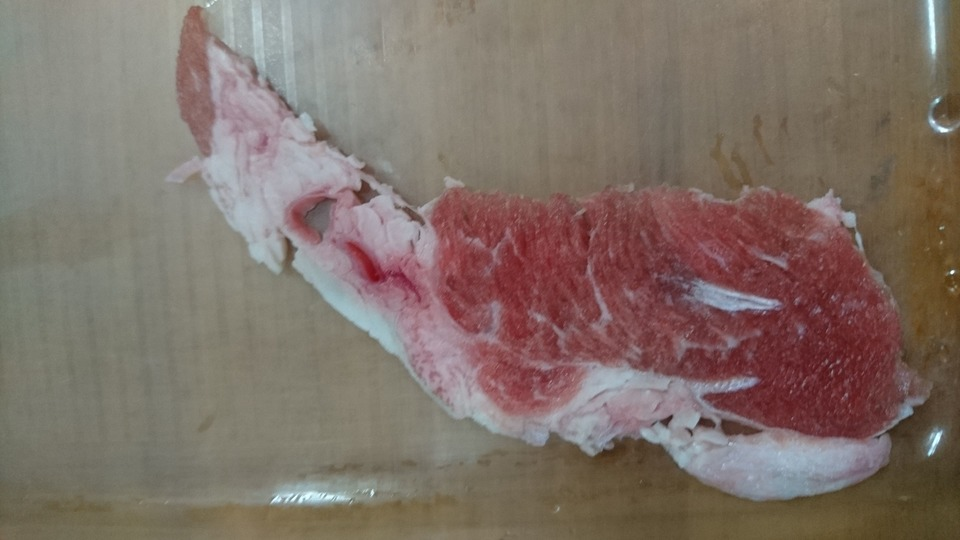restructured meat: (169, 3, 938, 500)
